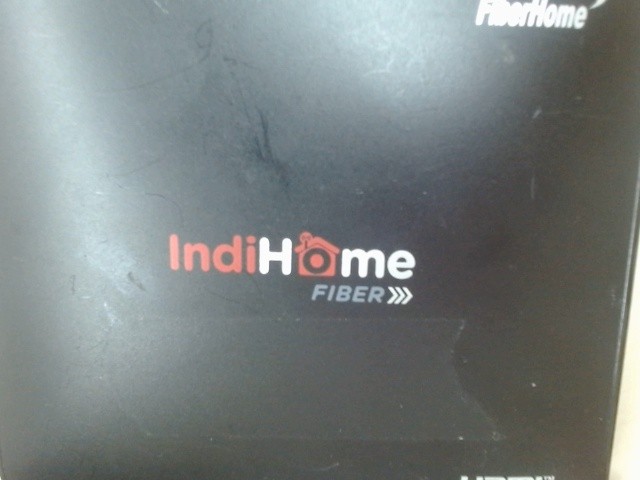AF_IndiHome: (155, 221, 425, 315)
